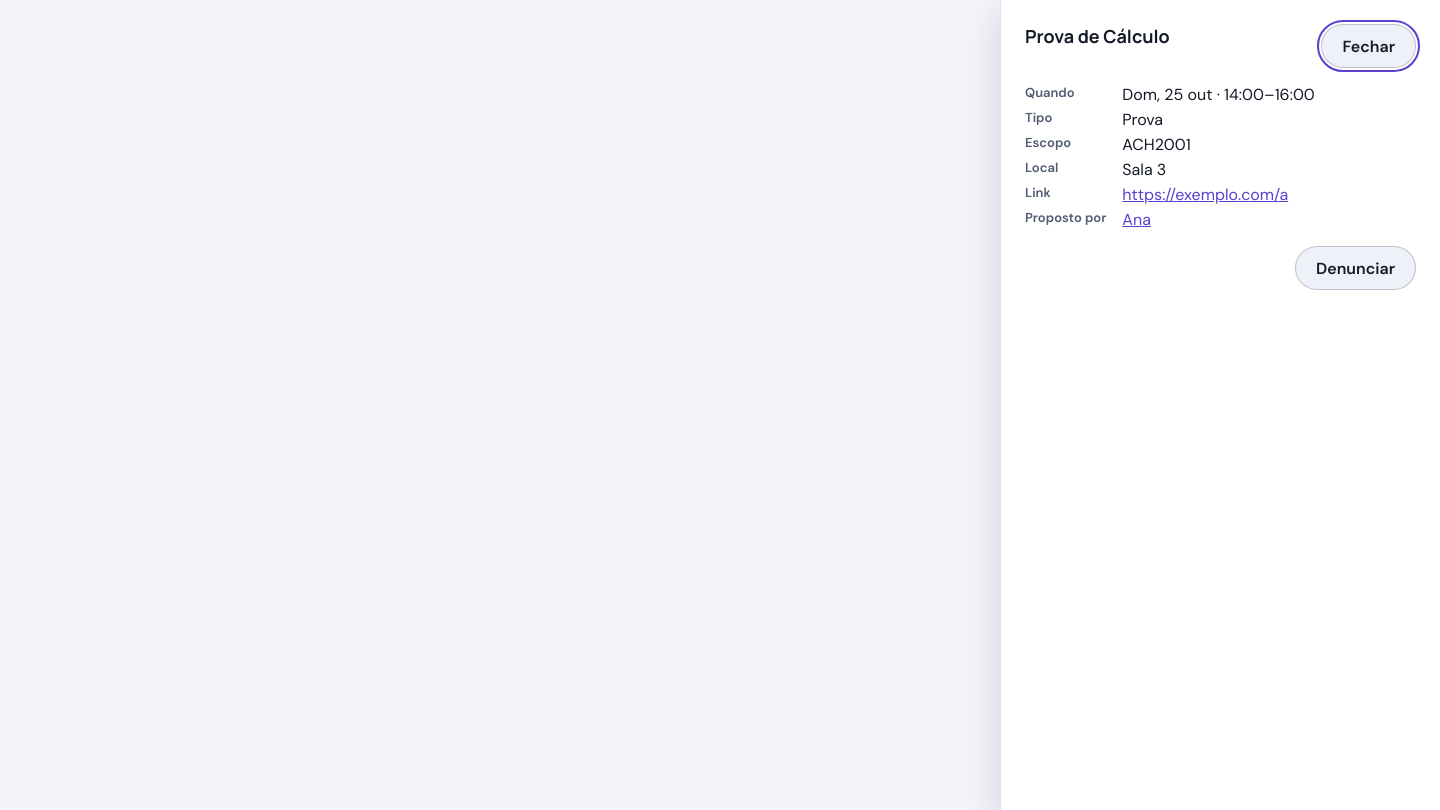
EventDetail › denunciar pede confirmação com aviso e depois mostra "Denunciado"
Click the button "Denunciar" at (1356, 268), box [1295,246,1416,290]
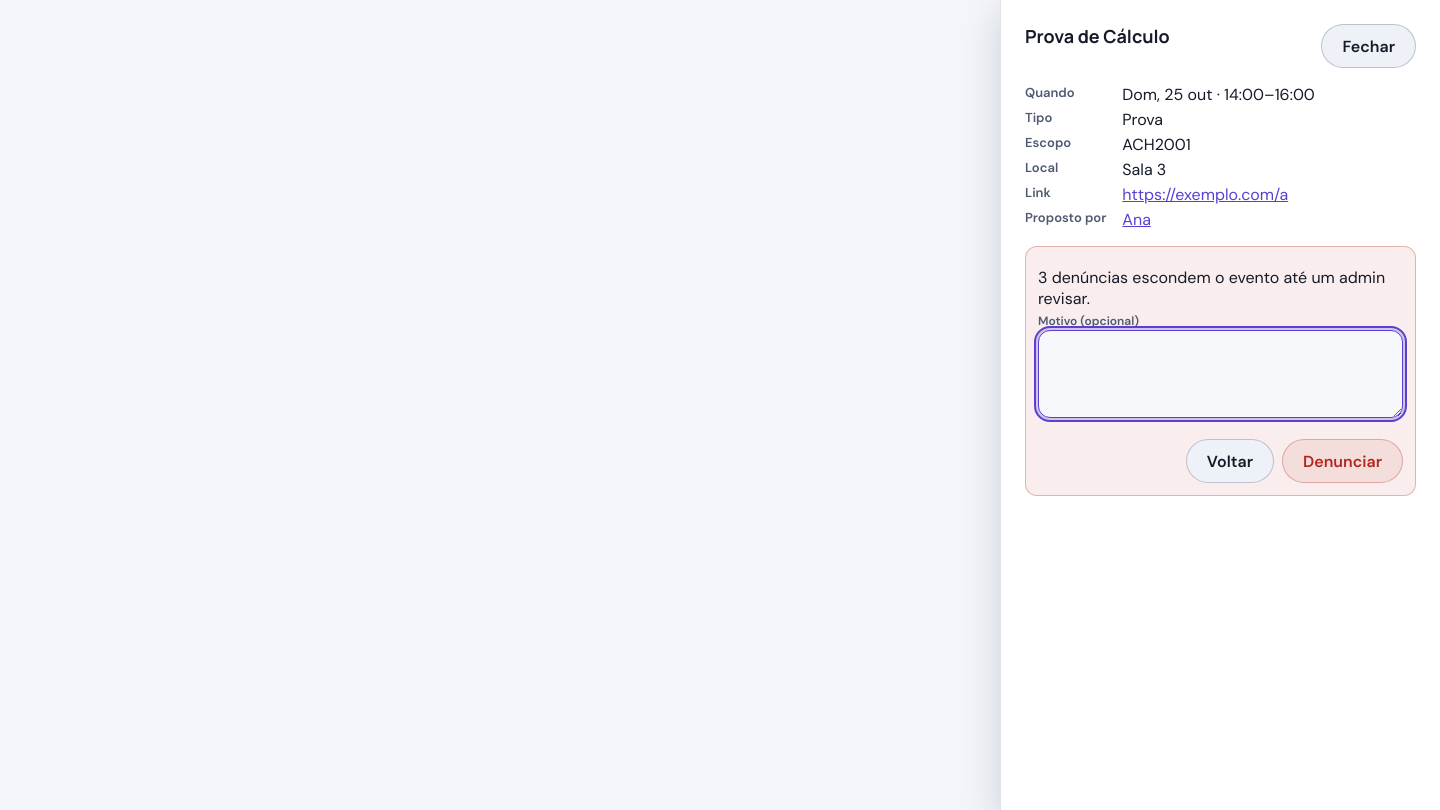
Result: the text "3 denúncias escondem o evento até um admin revisar." is shown at [1038,267,1403,309]
Type "spam" into the text box labelled "Motivo (opcional)" at (1220, 374), box [1038,330,1403,418]
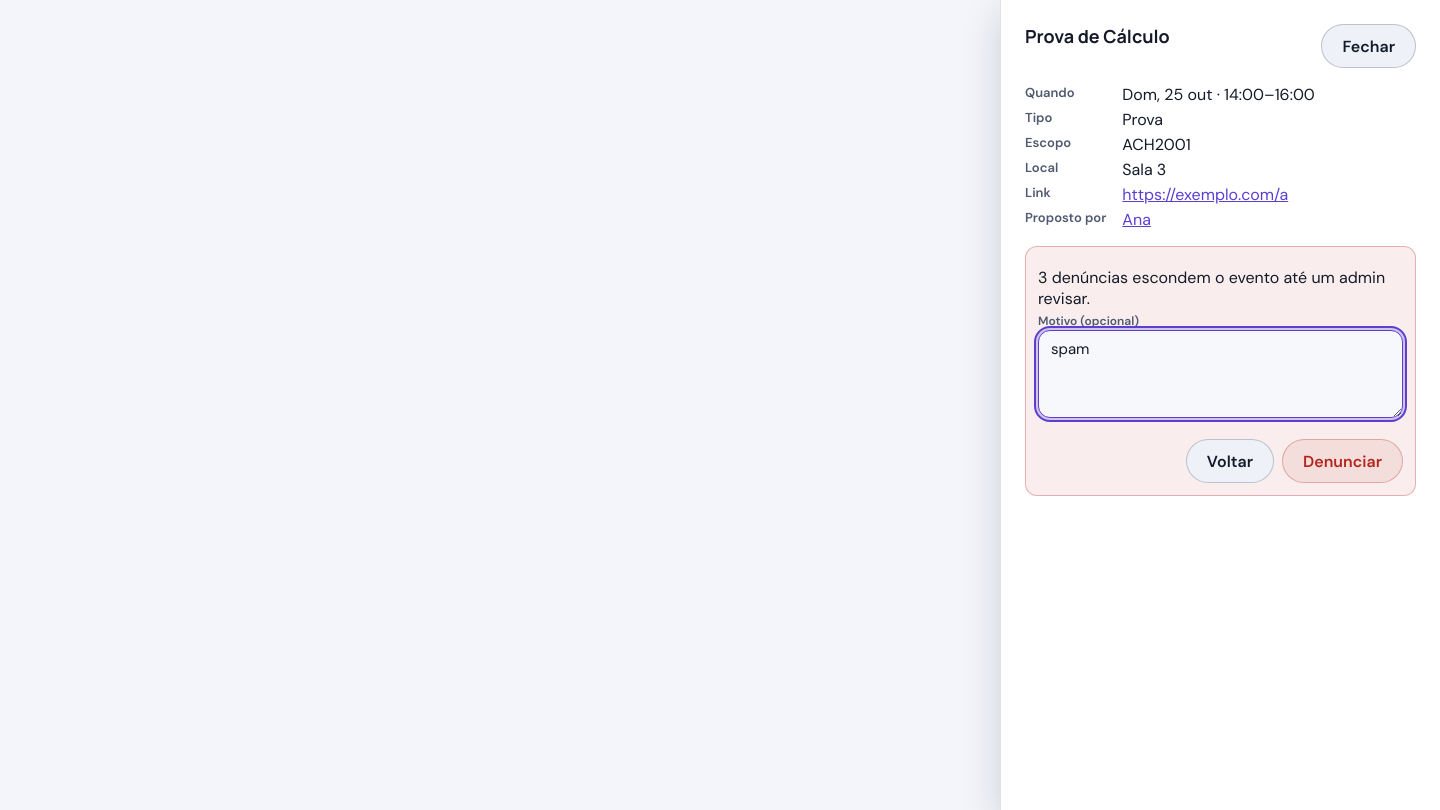
Click the button "Denunciar" at (1342, 461), box [1282,439,1403,483]
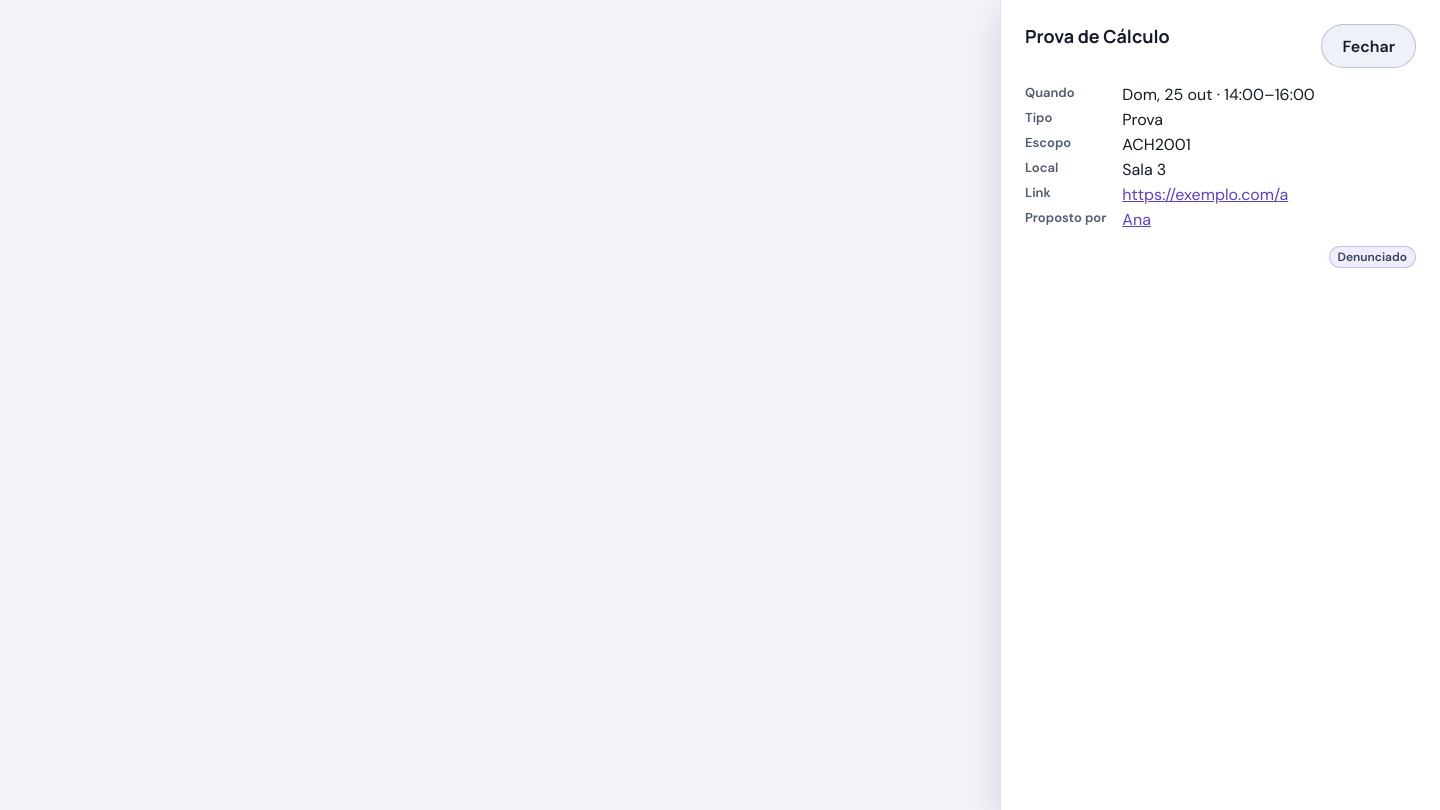
Result: the text "Denunciado" is shown at [1328,246,1416,268]
Result: the button "Denunciar" is gone
